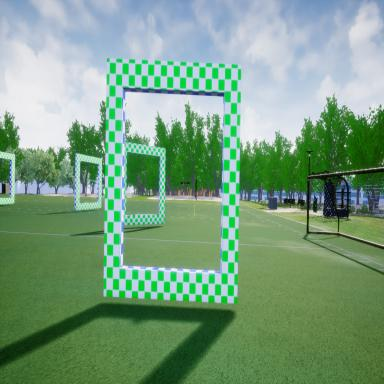gate: (103, 49, 245, 314), (120, 140, 166, 226), (73, 147, 103, 215), (0, 148, 16, 204)
